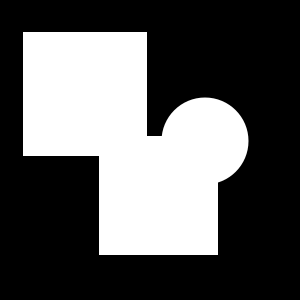circle: (23, 32, 147, 156), (99, 136, 218, 255), (119, 211, 163, 255)
rectangle: (162, 97, 248, 184)
